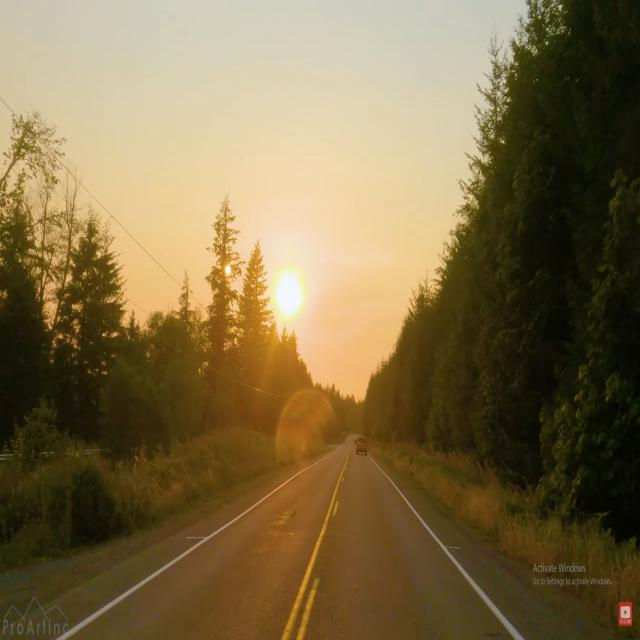sun: (271, 247, 310, 337)
